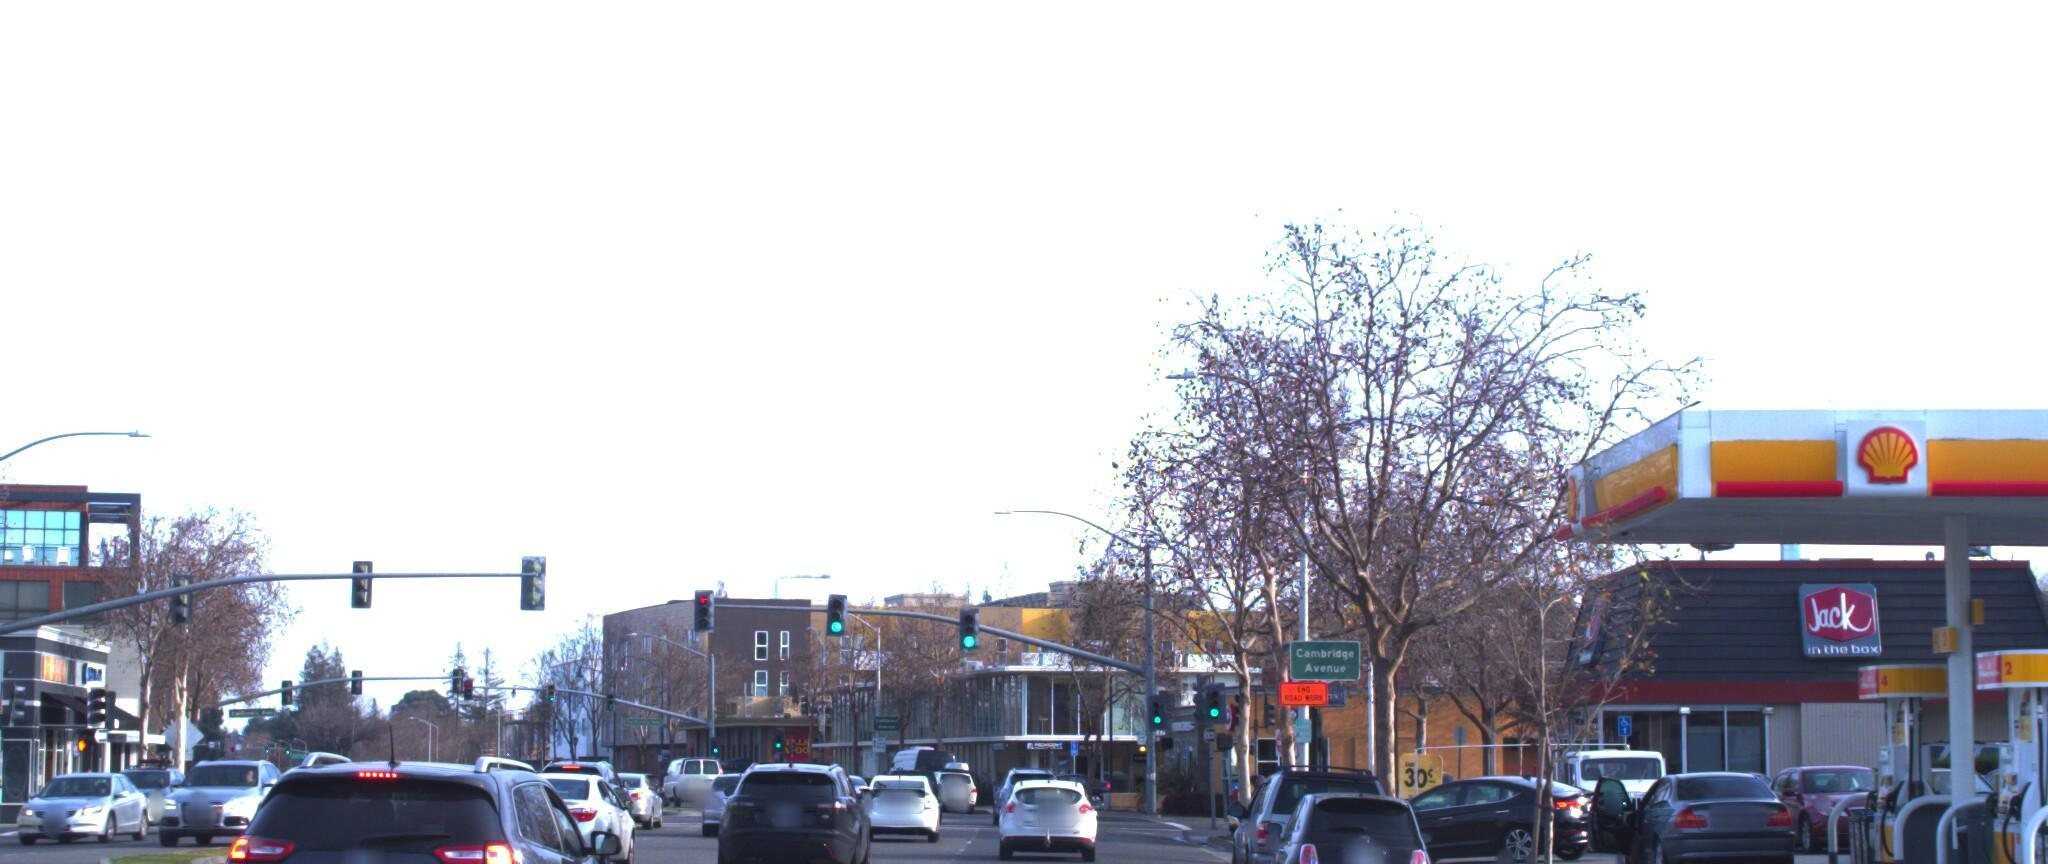car: (152, 753, 632, 864), (700, 750, 859, 864), (1733, 765, 1920, 859), (1217, 767, 1395, 864), (1599, 777, 1795, 864), (470, 766, 643, 864), (150, 757, 306, 846), (1254, 784, 1426, 864), (1548, 748, 1674, 855), (0, 754, 155, 841), (991, 771, 1095, 856), (852, 756, 942, 843)
